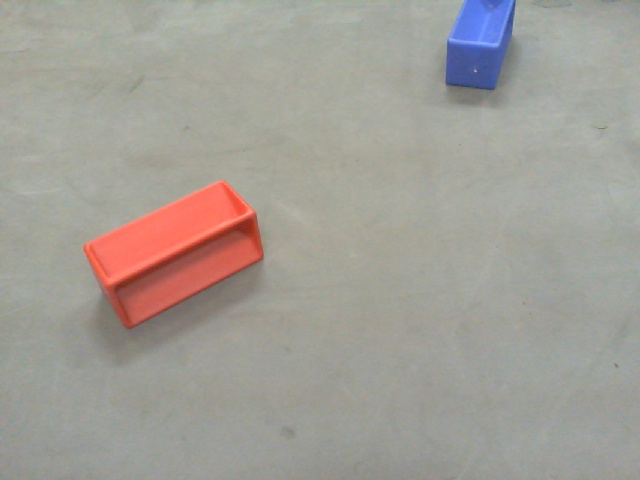BlueSample: (440, 1, 524, 90)
RedSample: (82, 177, 279, 331)
